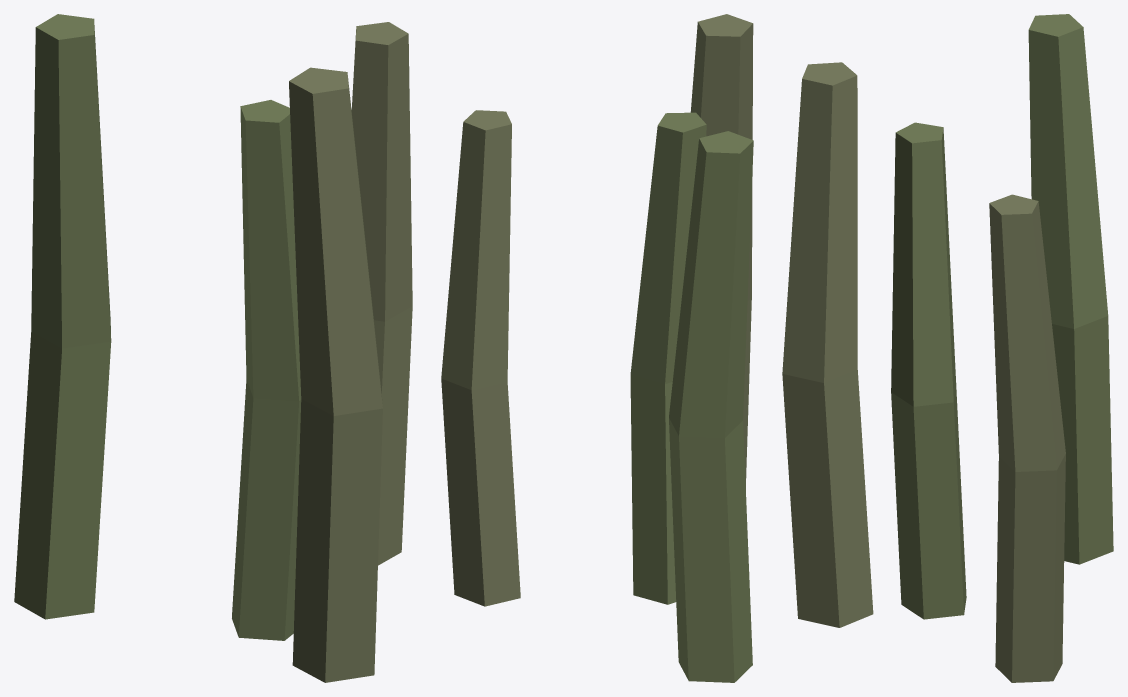
The model's file is grass_patch_detail.fbx.
3 renders of one model, left to right at view 1: azimuth 30°, elevation 25°; view 2: azimuth 150°, elevation 25°; view 3: azimuth 270°, elevation 25°, orthographic. The views are drawn at different scales.
Parts seen in each view (by area): view 1: grass_patc_detail; view 2: grass_patc_detail; view 3: grass_patc_detail.
Part boxes in pixels (<box>): grass_patc_detail: <box>14,14,412,682</box>; grass_patc_detail: <box>441,14,753,682</box>; grass_patc_detail: <box>782,14,1113,682</box>.
Bounding box in the file's own units: 0.1218 × 0.1941 × 0.11.
